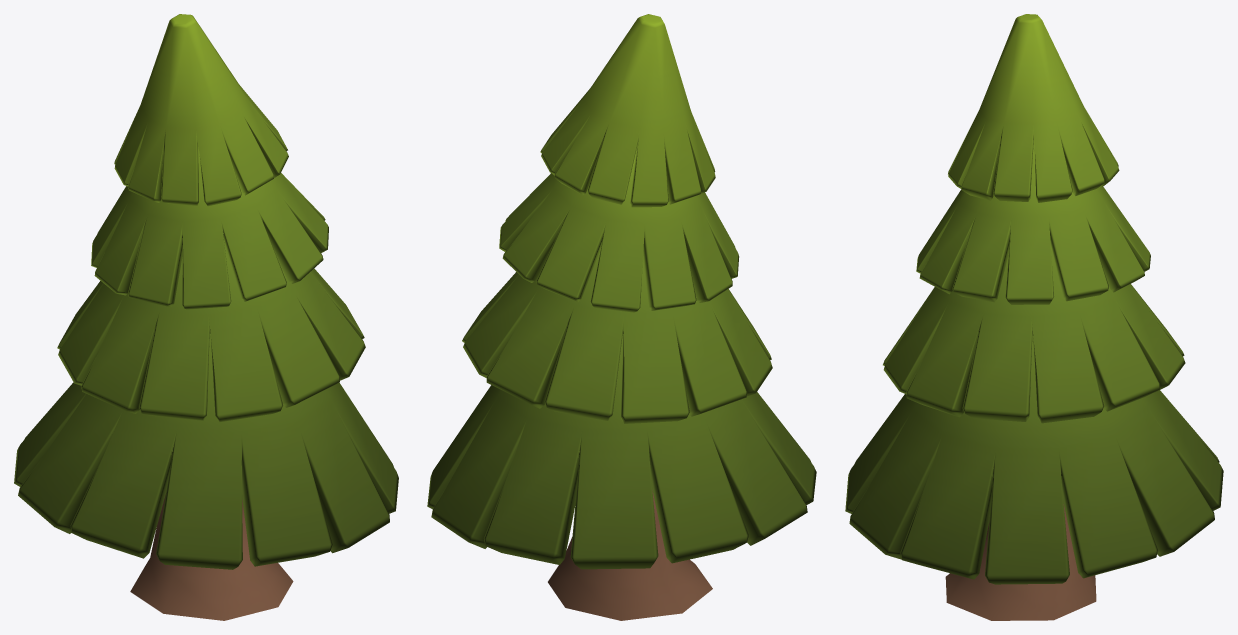
File: Tree_01.fbx
3 renders of one model, left to right at view 1: azimuth 30°, elevation 25°; view 2: azimuth 150°, elevation 25°; view 3: azimuth 270°, elevation 25°, orthographic. The views are drawn at different scales.
Visible parts, largest first — view 1: Tree_01; view 2: Tree_01; view 3: Tree_01.
Boxes of the visible parts, x1,y1,x2,y2 form: Tree_01: (14,14,398,620); Tree_01: (427,14,816,620); Tree_01: (845,14,1223,620).
Size of the model in its own units: 3.29 by 5.36 by 3.27.
